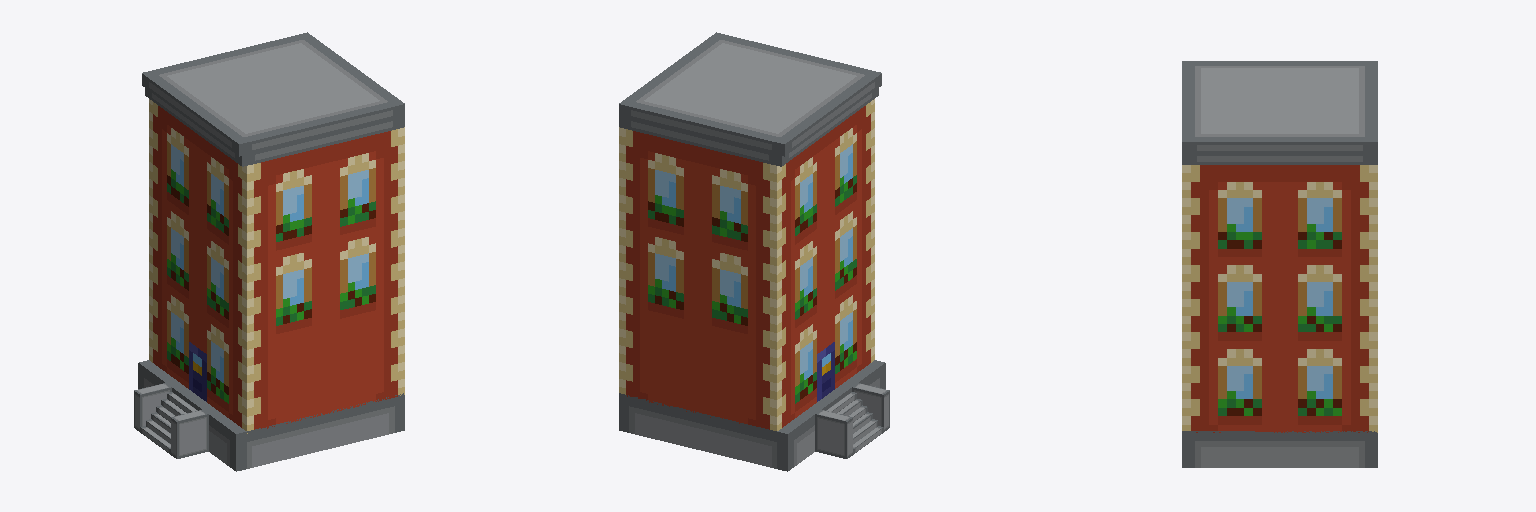
The picture shows the model from 3 angles: view 1: azimuth 30°, elevation 25°; view 2: azimuth 150°, elevation 25°; view 3: azimuth 270°, elevation 25°; orthographic projection.
Visible parts, largest first — view 1: cube; view 2: cube; view 3: cube.
Boxes of the visible parts, box(x1,y1,x2,y2) form: cube: box(134, 32, 404, 471); cube: box(619, 32, 889, 471); cube: box(1182, 61, 1377, 467).
Bounding box in the file's own units: 1.19 × 1.84 × 1.
2 materials, 1 textured.